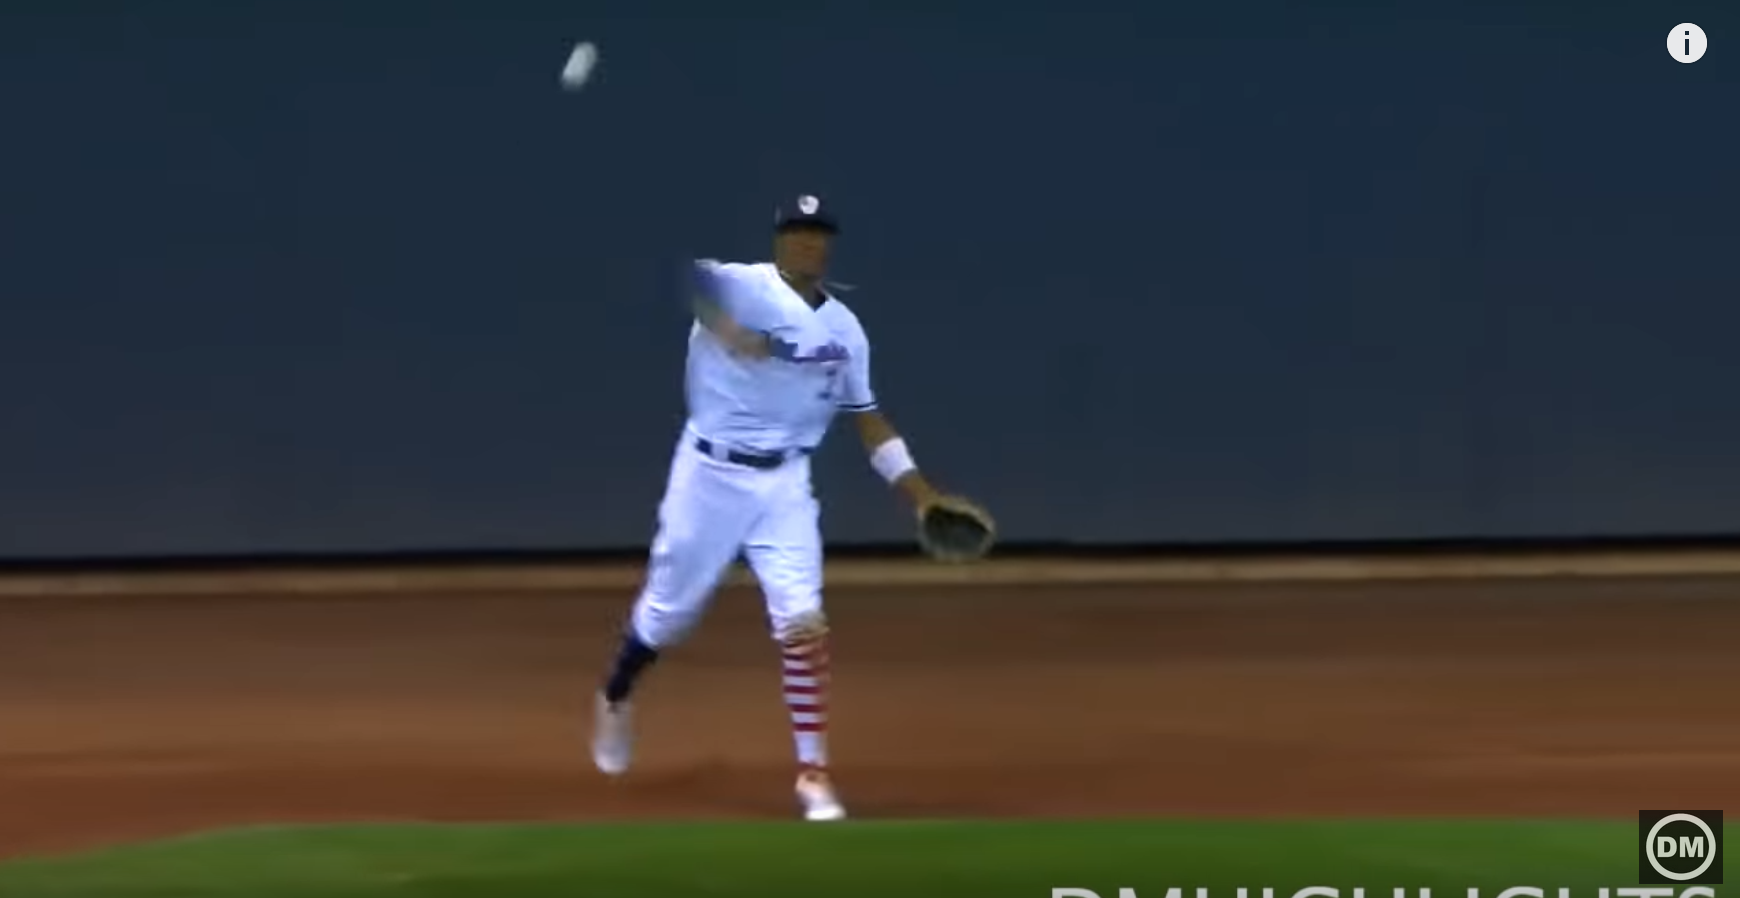ball: (549, 39, 604, 89)
